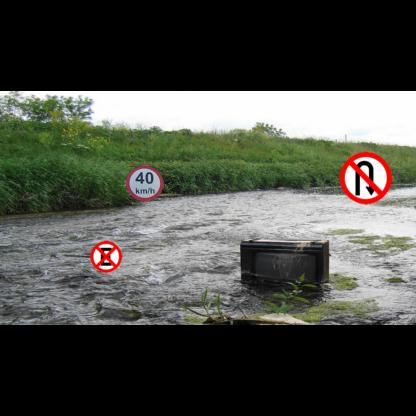R-19: (126, 165, 164, 202)
R-6c: (90, 241, 122, 273)
